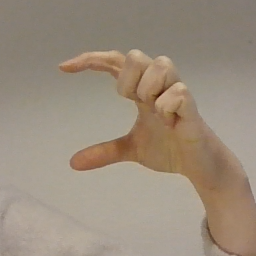C: (54, 46, 215, 177)
